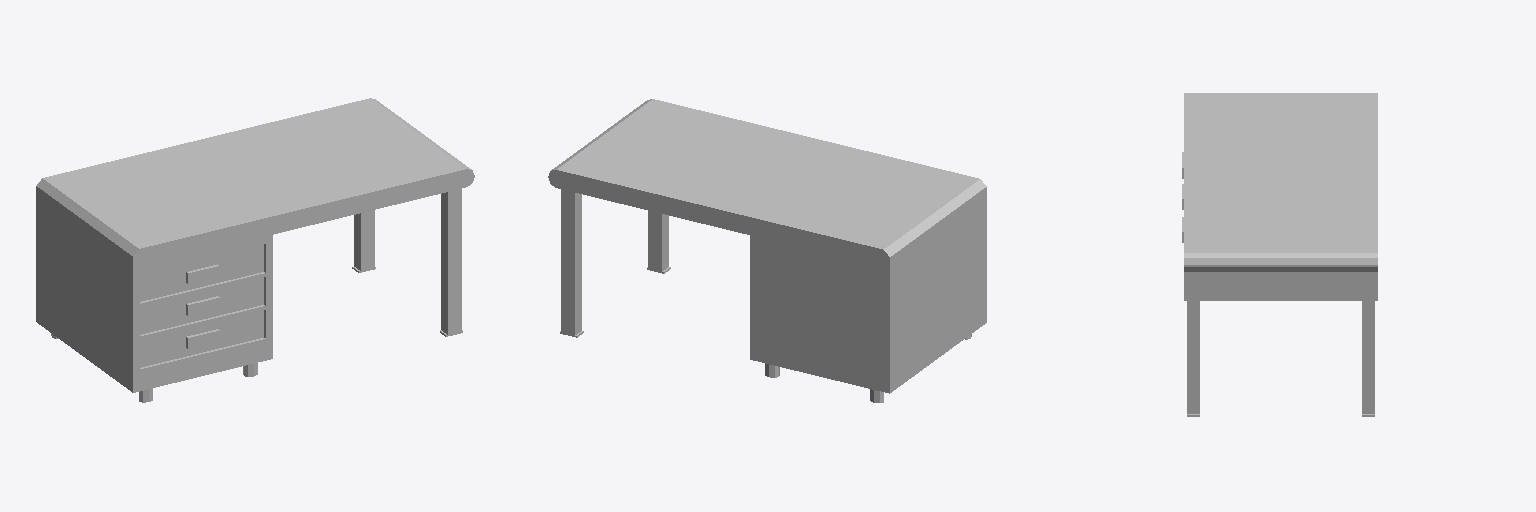
The model's file is WorkbenchLevel10.obj.
The picture shows the model from 3 angles: view 1: azimuth 30°, elevation 25°; view 2: azimuth 150°, elevation 25°; view 3: azimuth 270°, elevation 25°; orthographic projection.
Visible parts, largest first — view 1: WorkbenchLevel1; view 2: WorkbenchLevel1; view 3: WorkbenchLevel1.
Part boxes in pixels (left/top/right/bottom): WorkbenchLevel1: left=36, top=98, right=474, bottom=402; WorkbenchLevel1: left=548, top=99, right=986, bottom=402; WorkbenchLevel1: left=1182, top=93, right=1377, bottom=416.
Bounding box in the file's own units: 9.78 × 4.5 × 4.85.